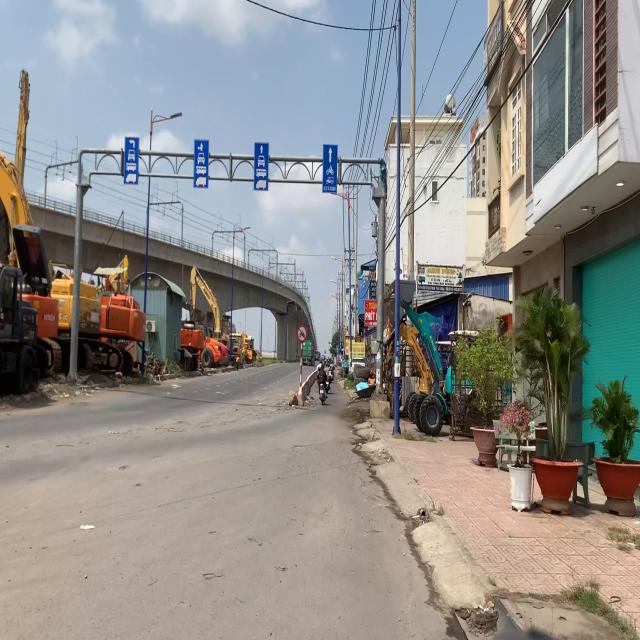Cam con lai: (296, 323, 308, 344)
